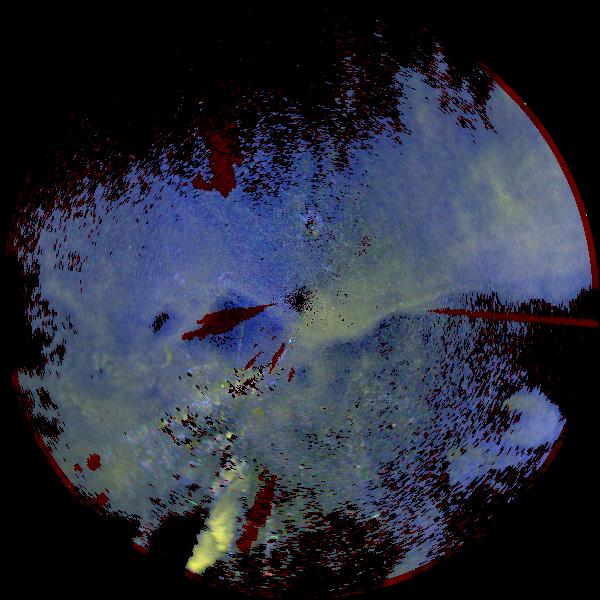roost: (143, 342, 185, 384)
